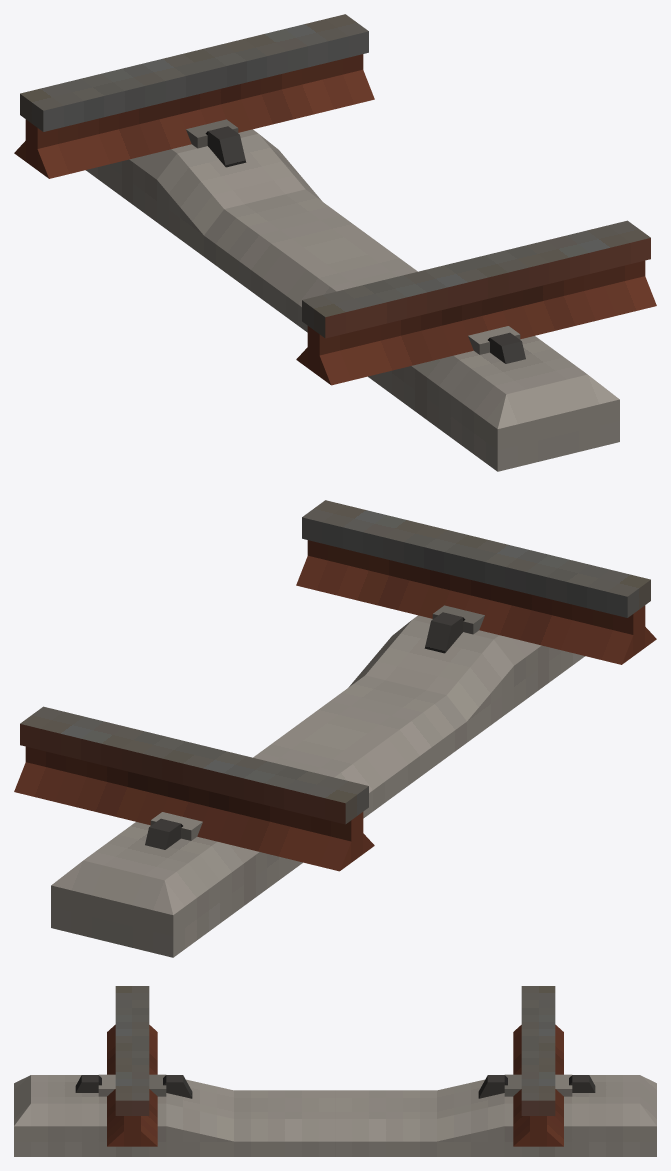
File: texel_concrete.obj
The picture shows the model from 3 angles, top to bottom: view 1: azimuth 30°, elevation 25°; view 2: azimuth 150°, elevation 25°; view 3: azimuth 270°, elevation 25°; orthographic projection. The views are drawn at different scales.
Parts seen in each view (by area): view 1: RAIL_Base_Plane, RAIL_LEFT_Cube_Cube.002, RAIL_RIGHT_Cube_Cube.003; view 2: RAIL_Base_Plane, RAIL_RIGHT_Cube_Cube.003, RAIL_LEFT_Cube_Cube.002; view 3: RAIL_Base_Plane, RAIL_LEFT_Cube_Cube.002, RAIL_RIGHT_Cube_Cube.003.
Boxes of the visible parts, x1,y1,x2,y2 form: RAIL_Base_Plane: (86, 119, 619, 471); RAIL_LEFT_Cube_Cube.002: (296, 220, 656, 385); RAIL_RIGHT_Cube_Cube.003: (14, 14, 374, 178); RAIL_Base_Plane: (51, 605, 584, 957); RAIL_RIGHT_Cube_Cube.003: (14, 706, 374, 871); RAIL_LEFT_Cube_Cube.002: (296, 500, 656, 664); RAIL_Base_Plane: (14, 1074, 656, 1156); RAIL_LEFT_Cube_Cube.002: (107, 986, 157, 1146); RAIL_RIGHT_Cube_Cube.003: (513, 986, 563, 1146).
Bounding box in the file's own units: 1 × 0.375 × 2.38.
Materials: 2 (2 with a texture image).
